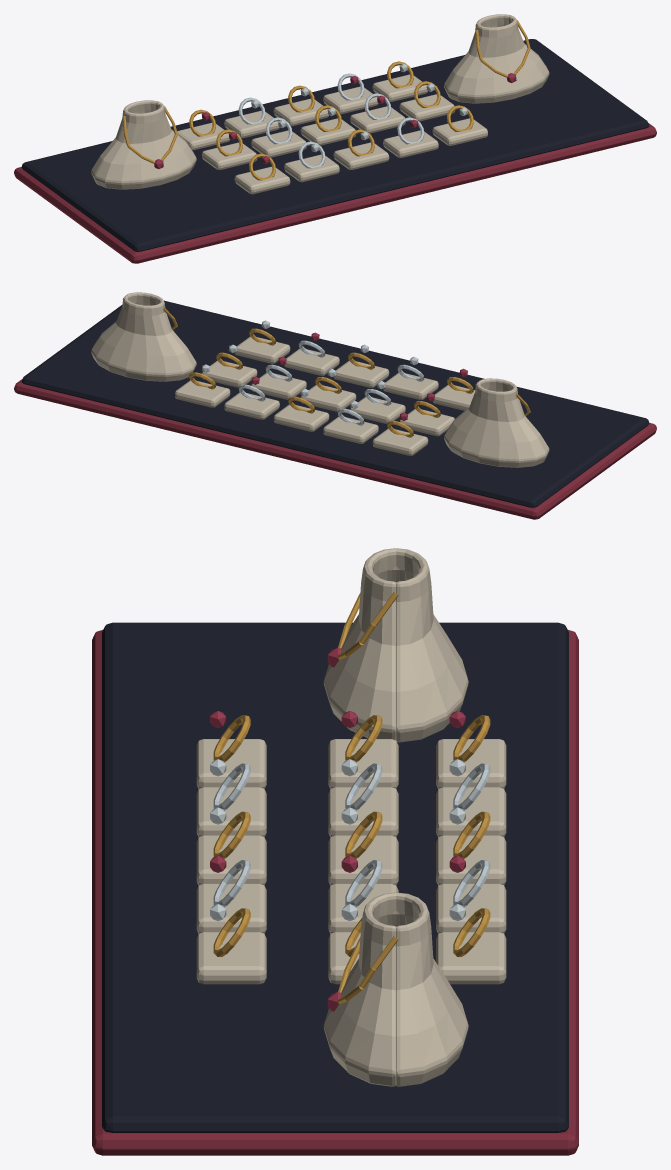
File: jewelry-tray.glb
3 renders of one model, top to bottom at view 1: azimuth 30°, elevation 25°; view 2: azimuth 150°, elevation 25°; view 3: azimuth 270°, elevation 25°, orthographic. The views are drawn at different scales.
Visible parts, largest first — view 1: JewelryTray; view 2: JewelryTray; view 3: JewelryTray.
Part boxes in pixels (x1,y1,x2,y2): JewelryTray: (14, 14, 656, 263); JewelryTray: (14, 292, 656, 519); JewelryTray: (92, 548, 578, 1155).
Bounding box in the file's own units: 1.52 × 0.2296 × 0.61.
